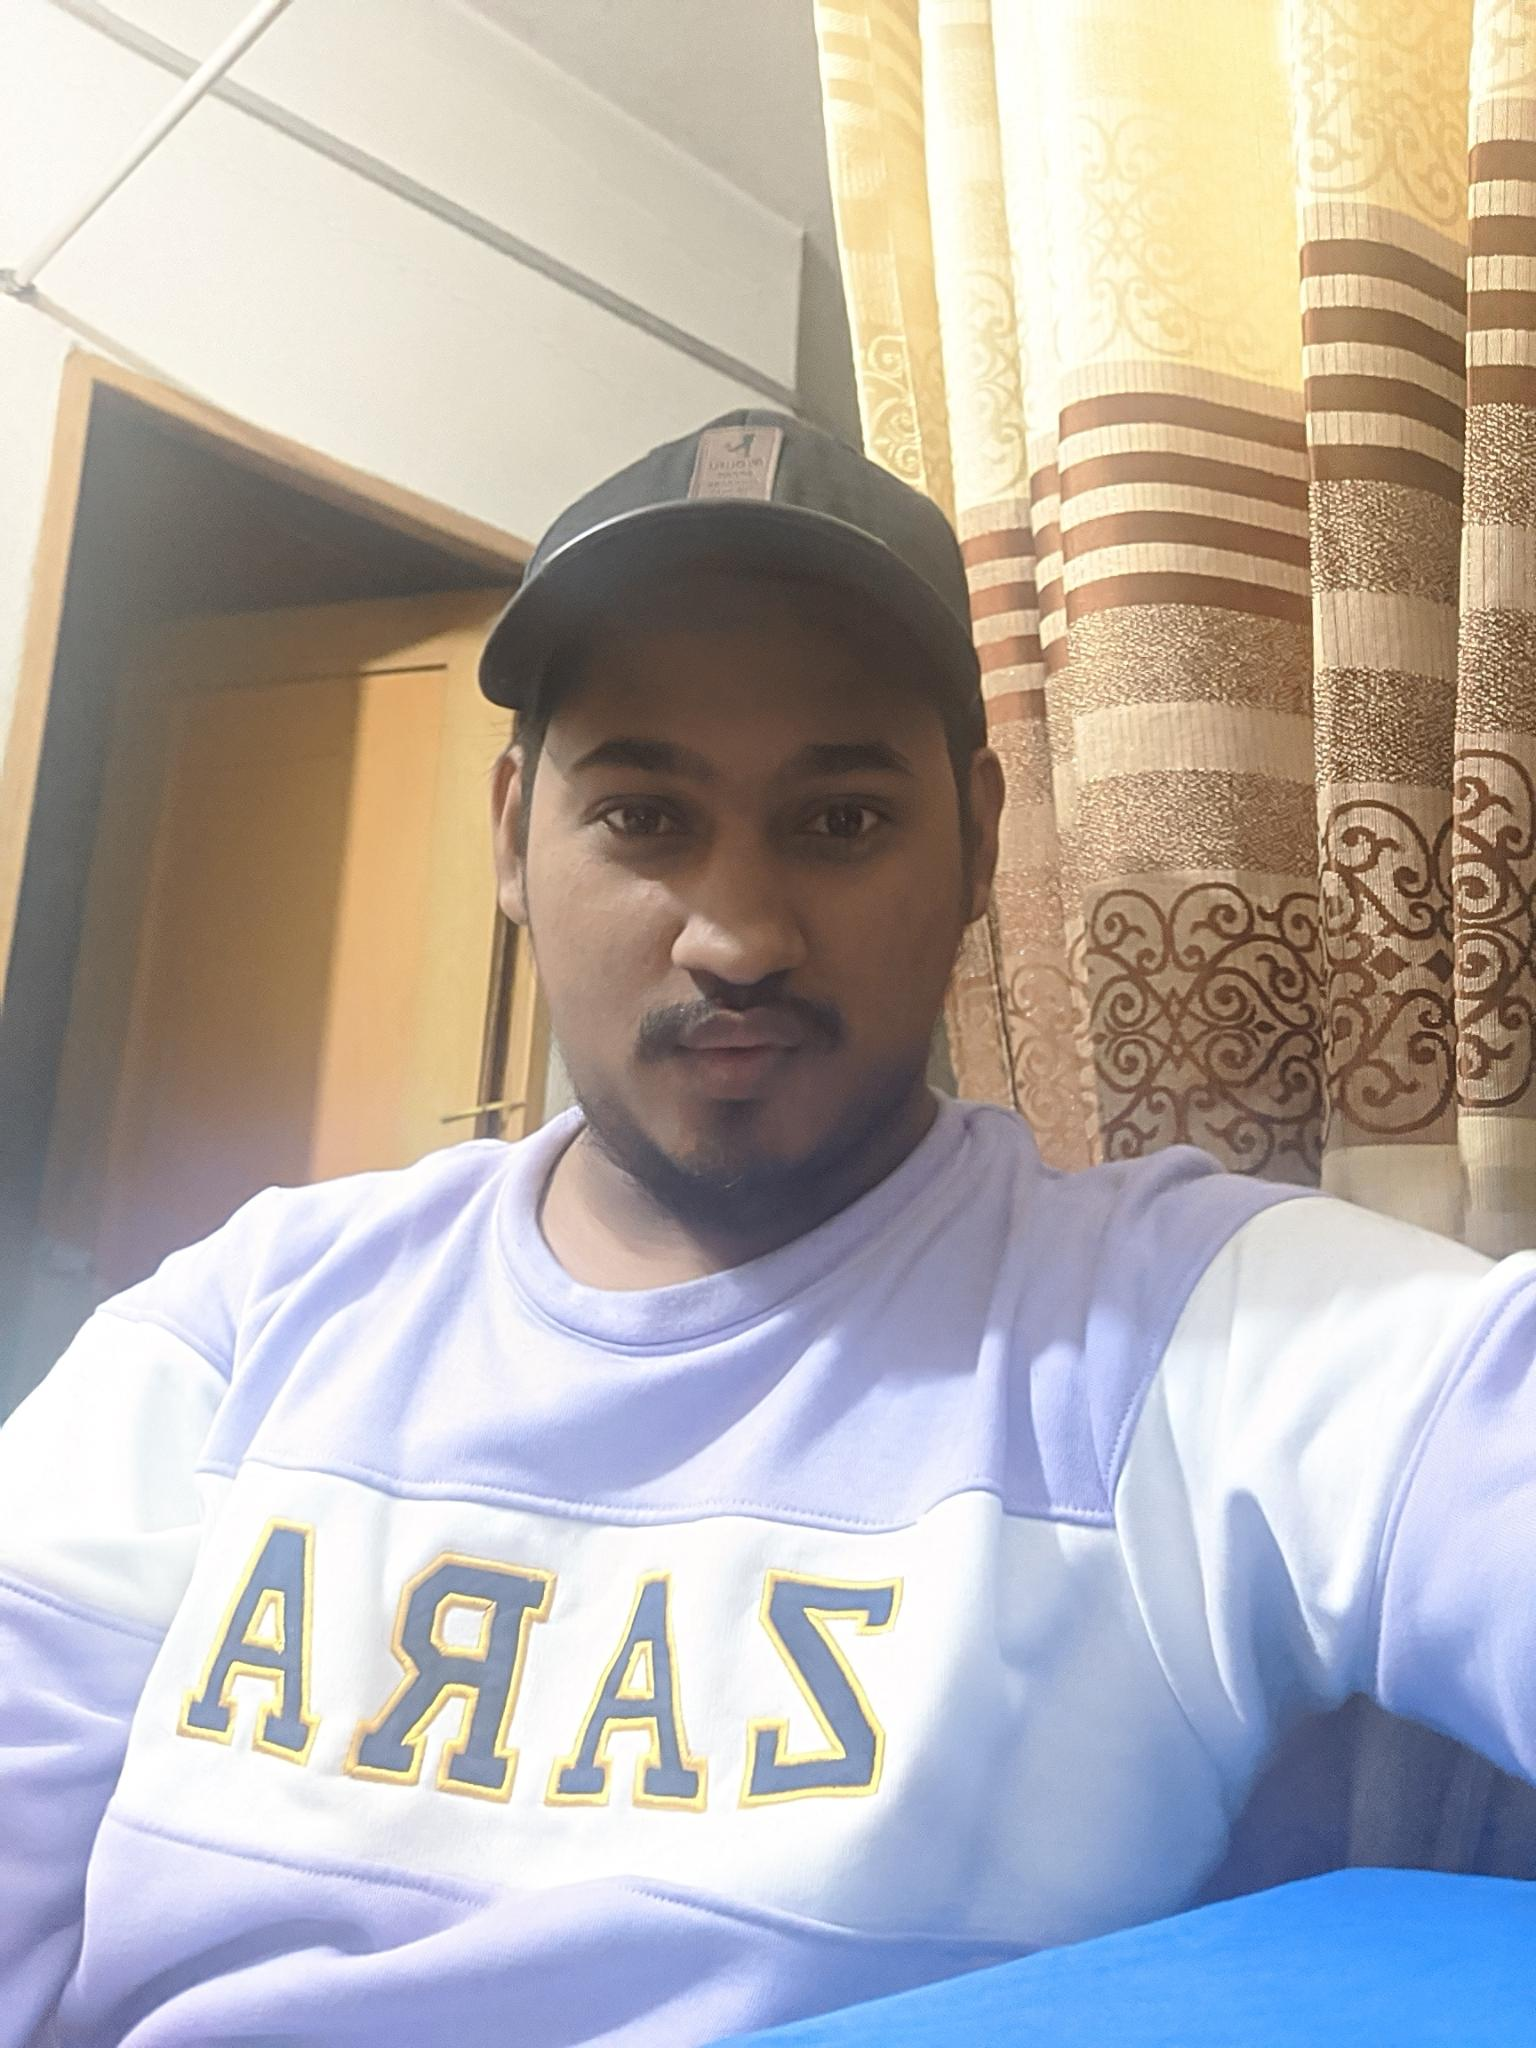Surprise: (508, 663, 963, 1172)
